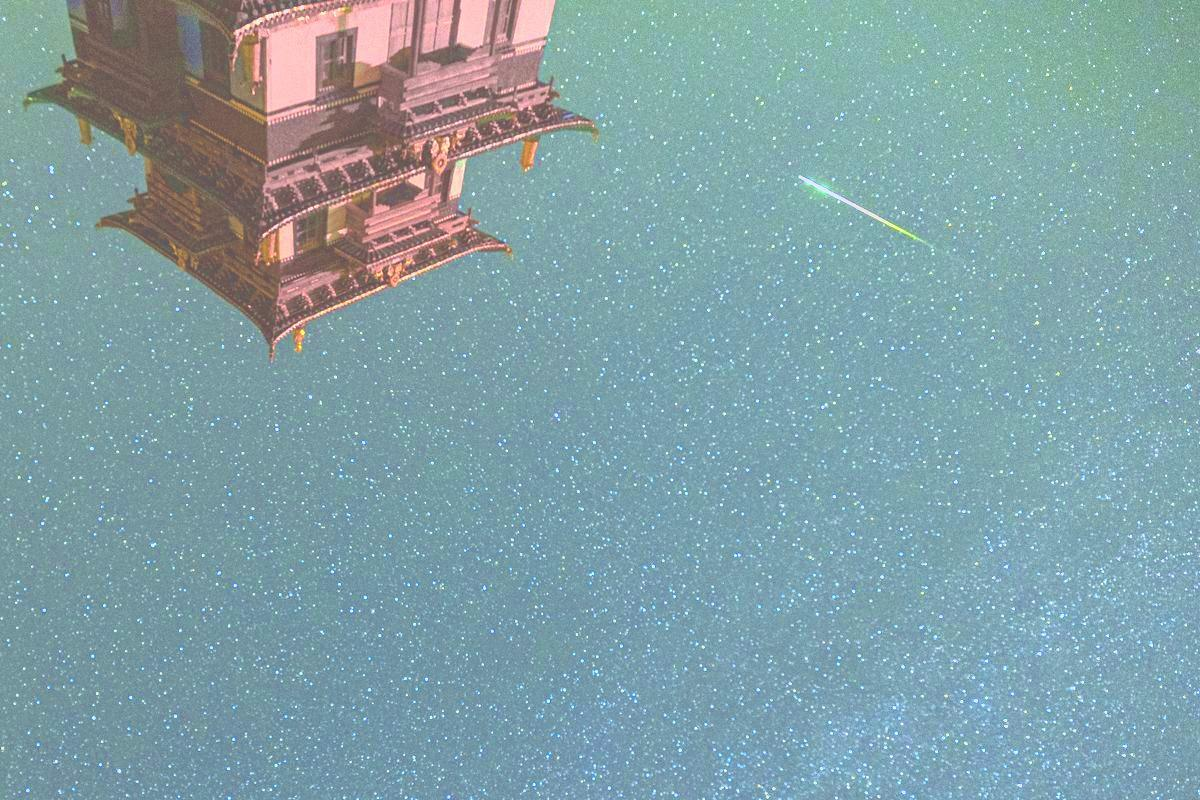meteorite: (767, 164, 957, 263)
